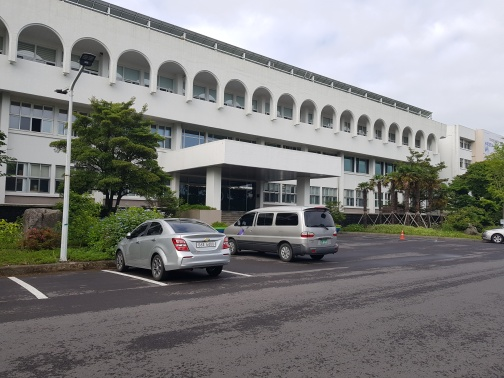Main Building of University: (4, 6, 504, 205), (117, 46, 355, 136), (157, 131, 349, 208), (374, 115, 438, 153)
